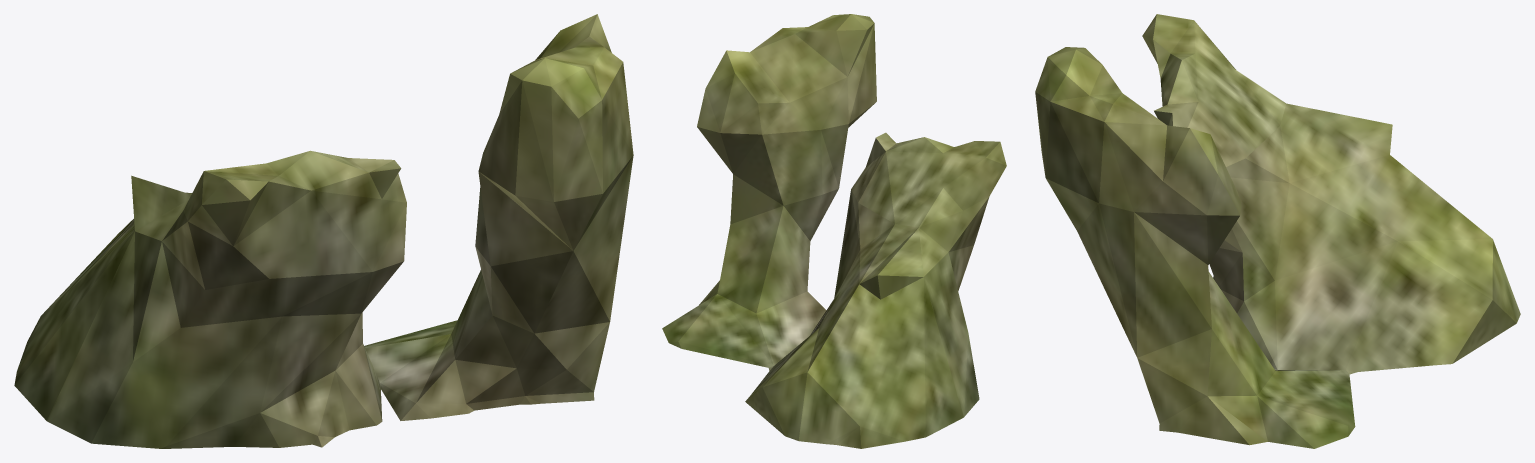
3 renders of one model, left to right at view 1: azimuth 30°, elevation 25°; view 2: azimuth 150°, elevation 25°; view 3: azimuth 270°, elevation 25°, orthographic. The views are drawn at different scales.
Bounding box in the file's own units: 2.05 × 1.65 × 2.14.
Materials: 1 (1 with a texture image).
